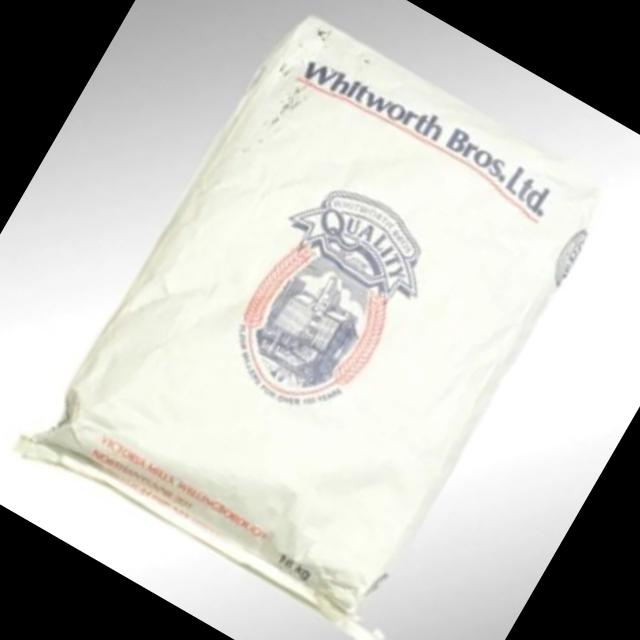KantongSemen: (10, 0, 637, 640)
